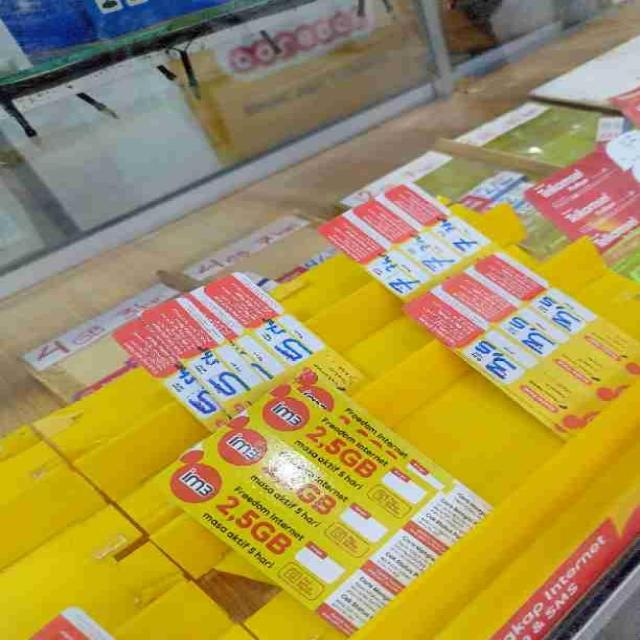Telkomsel: (512, 144, 640, 243)
im3: (110, 286, 494, 614), (405, 260, 626, 428), (322, 184, 479, 280)
